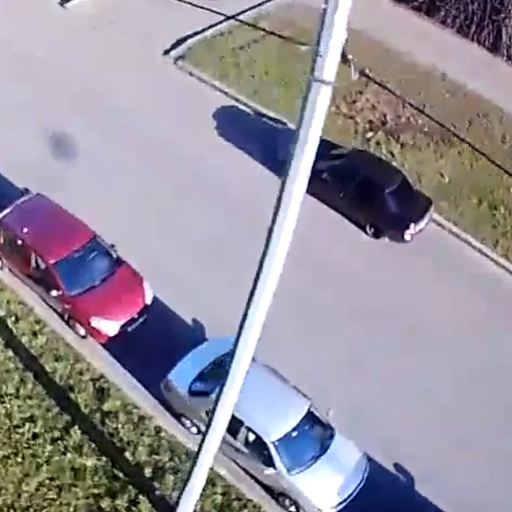Car: (162, 333, 366, 509), (0, 186, 158, 351), (325, 142, 432, 244)
